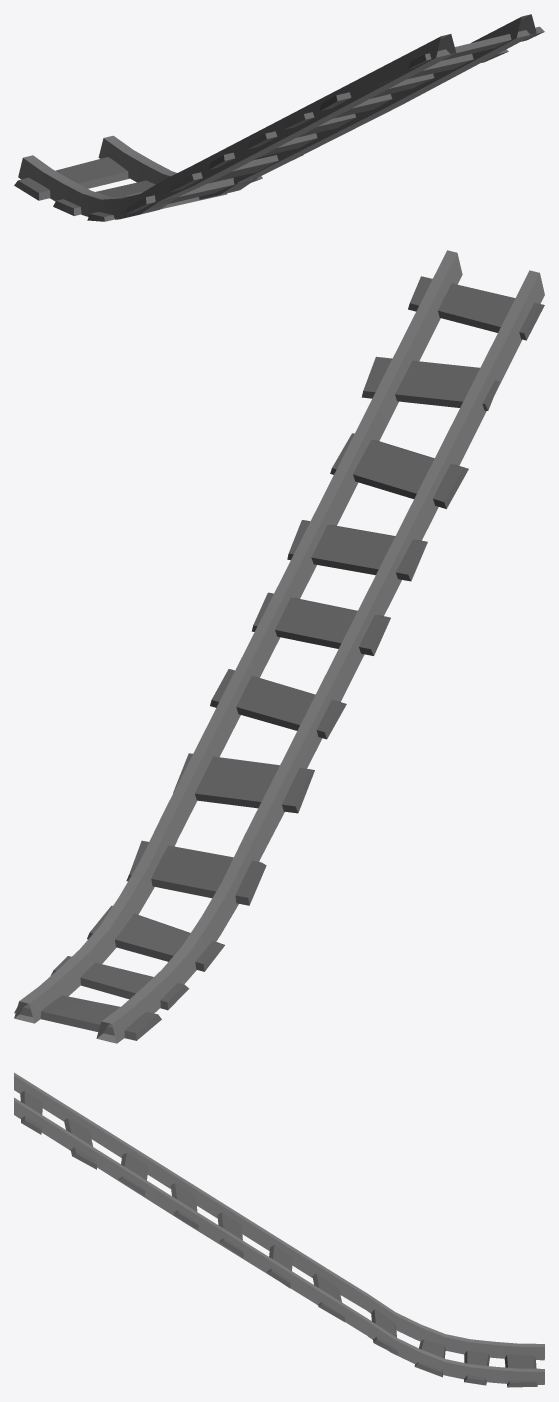
Rendered from Ray_Slope_02.fbx.
The picture shows the model from 3 angles, top to bottom: view 1: azimuth 30°, elevation 25°; view 2: azimuth 150°, elevation 25°; view 3: azimuth 270°, elevation 25°; orthographic projection. The views are drawn at different scales.
Parts seen in each view (by area): view 1: Ray_Slope_02; view 2: Ray_Slope_02; view 3: Ray_Slope_02.
Boxes of the visible parts, <box> form: Ray_Slope_02: <box>14,14,544,221</box>; Ray_Slope_02: <box>14,250,544,1043</box>; Ray_Slope_02: <box>14,1072,544,1387</box>.
Bounding box in the file's own units: 645 × 2087 × 3548.
